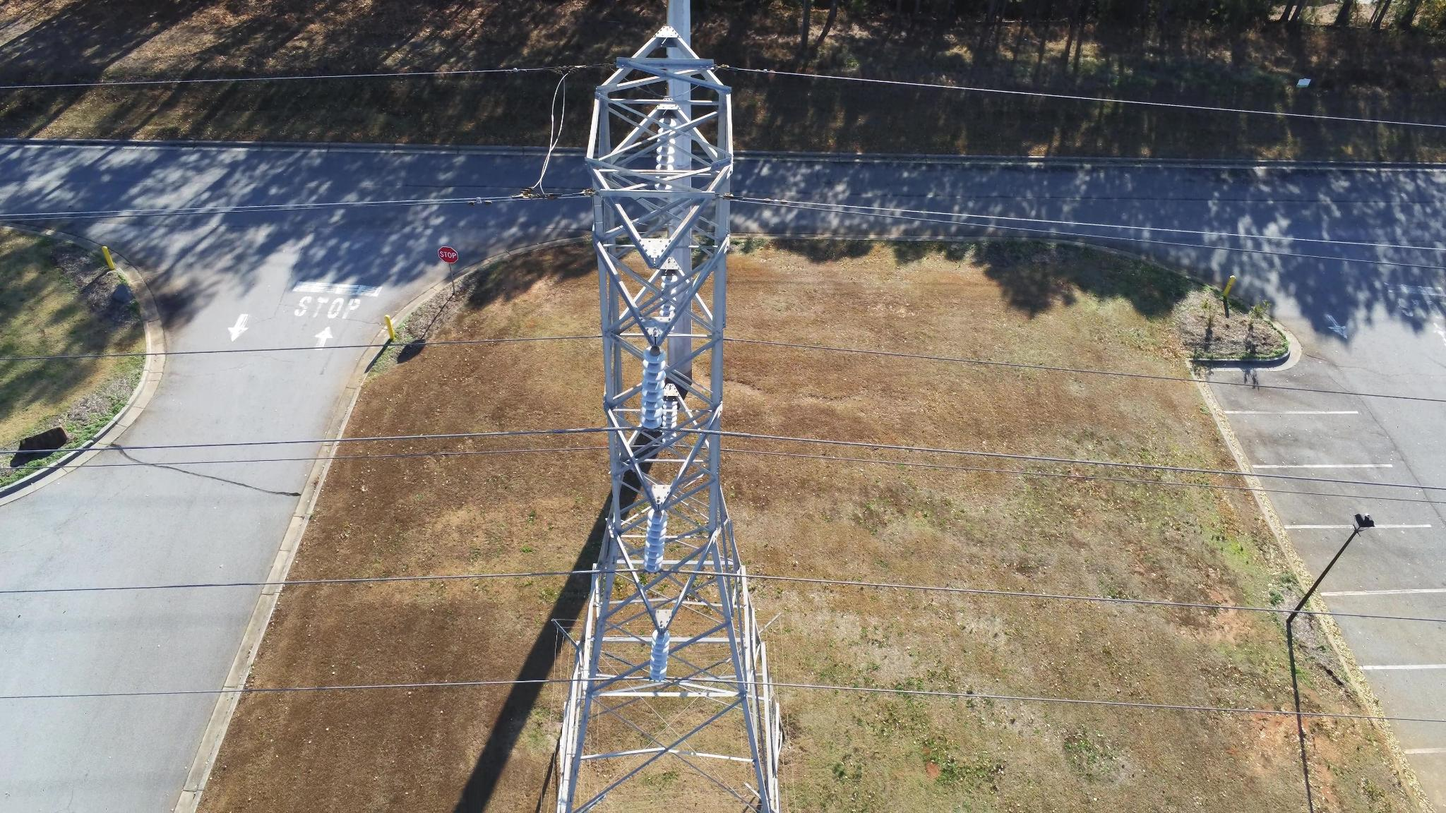tower: (554, 21, 791, 813)
